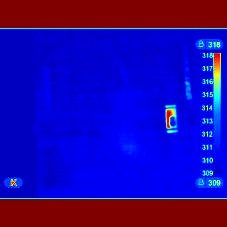High: (161, 106, 181, 137)
